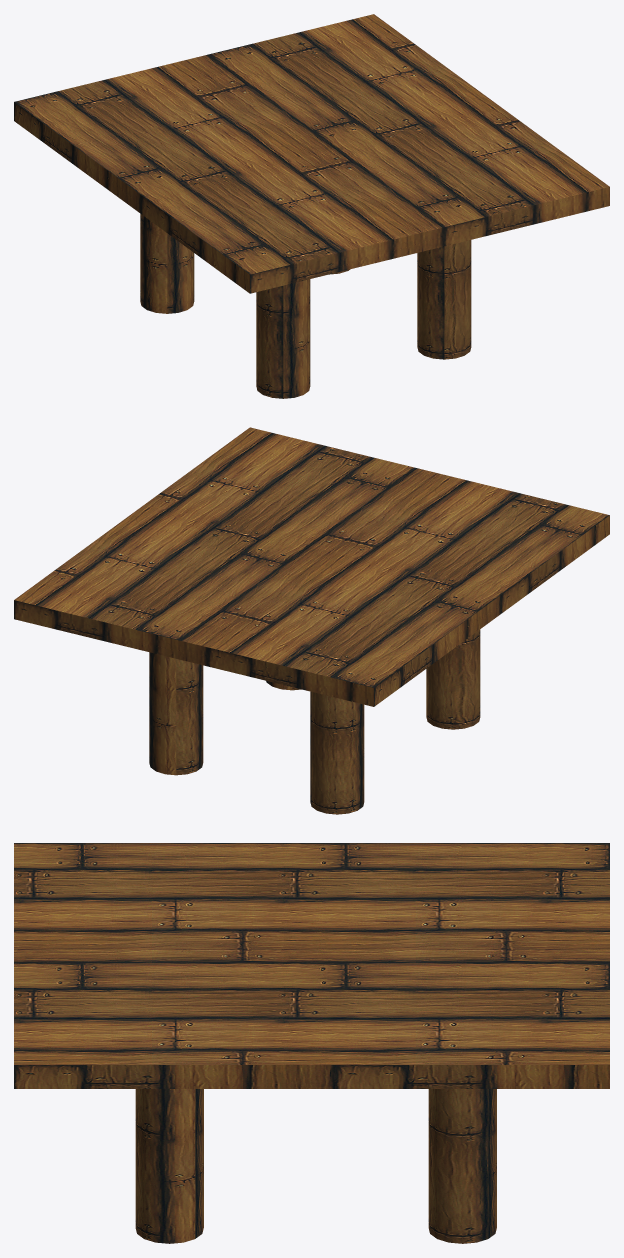
Rendered from Table.FBX.
3 views of the same model, one above another, from view 1: azimuth 30°, elevation 25°; view 2: azimuth 150°, elevation 25°; view 3: azimuth 270°, elevation 25° (orthographic). The views are drawn at different scales.
Parts seen in each view (by area): view 1: Box001; view 2: Box001; view 3: Box001.
Boxes of the visible parts, bbox=[...] form: Box001: bbox=[14, 14, 609, 398]; Box001: bbox=[14, 427, 609, 814]; Box001: bbox=[14, 843, 609, 1243].
Bounding box in the file's own units: 80.81 × 38.83 × 91.77.
